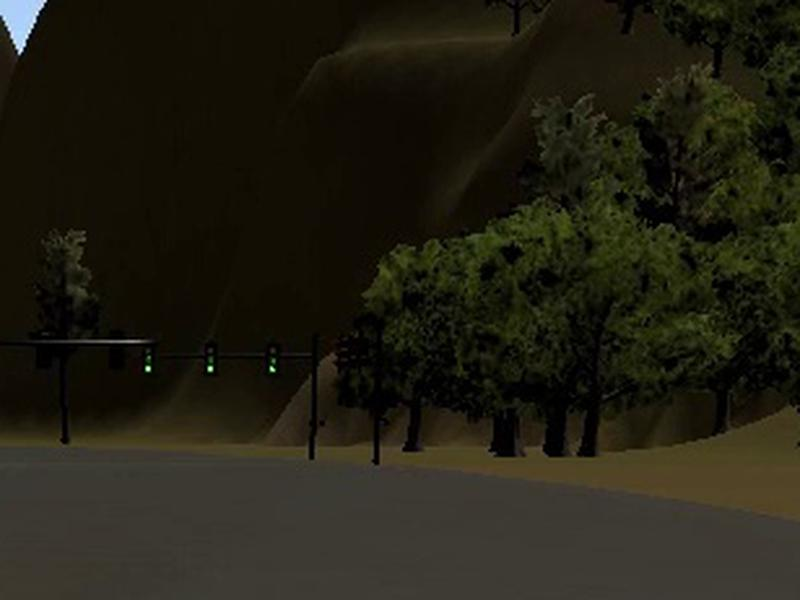Green: (203, 343, 215, 377), (142, 344, 155, 375), (267, 345, 279, 377)
